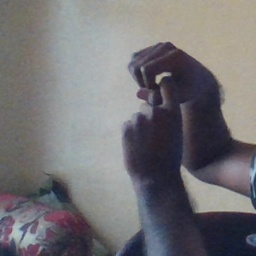Q: (106, 40, 216, 165)
